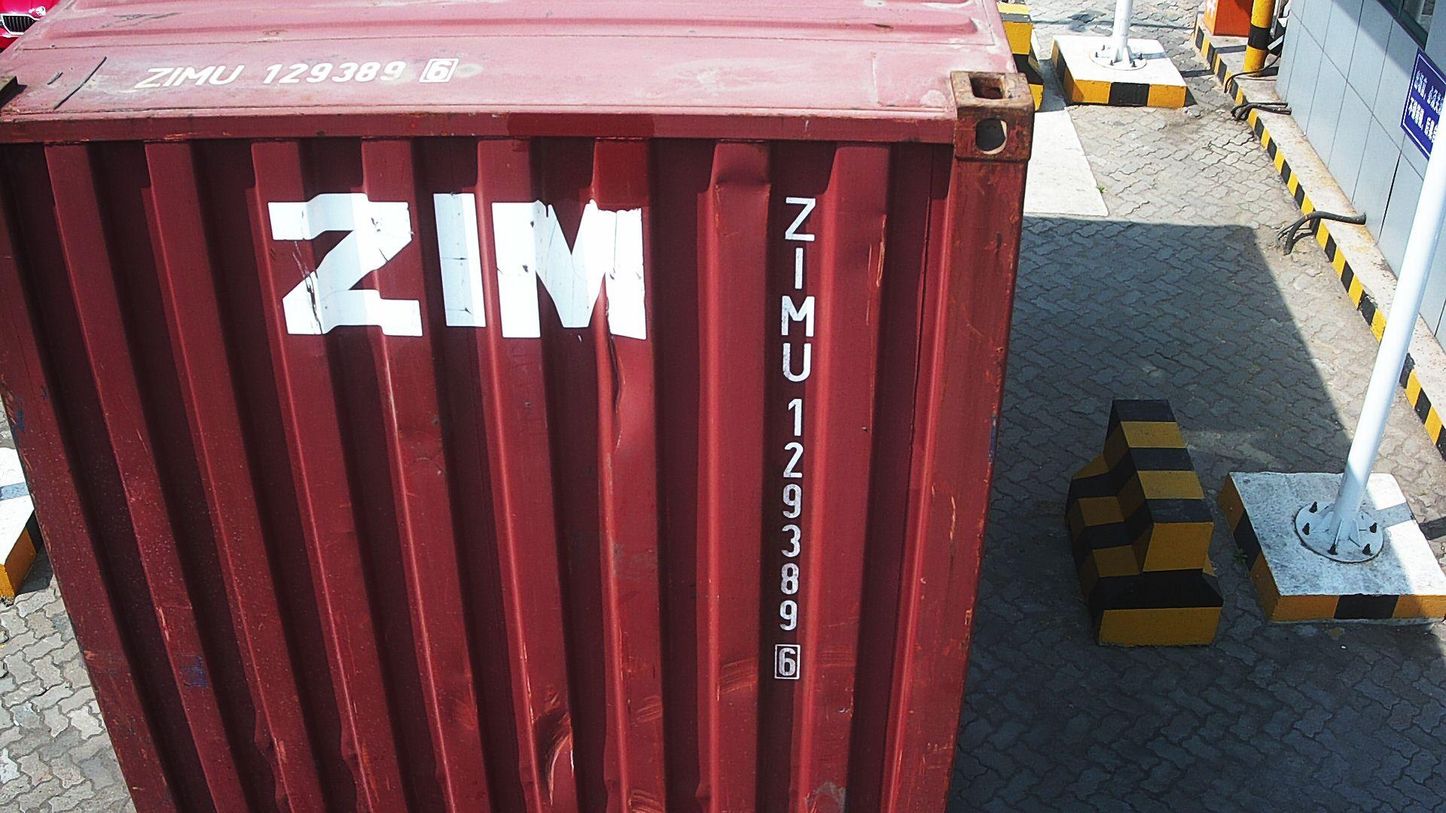container-numbers: (767, 193, 819, 683), (133, 56, 480, 92)
